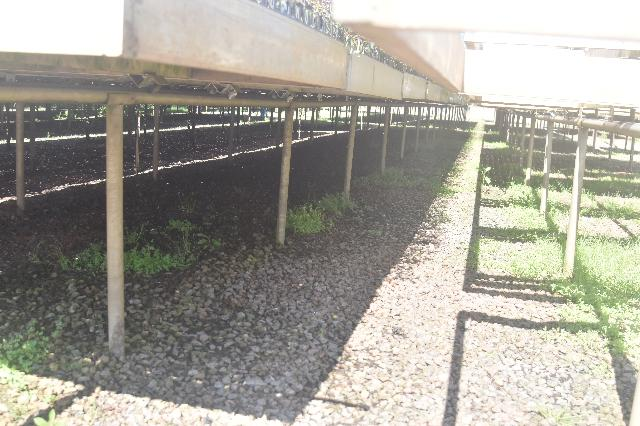MalezaMontesDelPlata: (0, 319, 61, 372), (121, 247, 186, 279), (287, 201, 333, 243), (351, 166, 428, 190), (54, 240, 107, 267), (162, 211, 207, 239), (314, 188, 359, 214)
